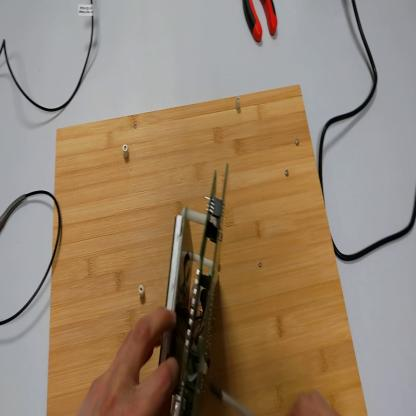hand: (77, 308, 179, 416), (285, 391, 344, 415)
low voltage board: (161, 155, 230, 415)
oscilloscope probe tip: (2, 190, 25, 230)
pliers: (243, 1, 280, 46)
screwdriver-: (207, 378, 261, 416)
working area: (50, 85, 368, 413)
